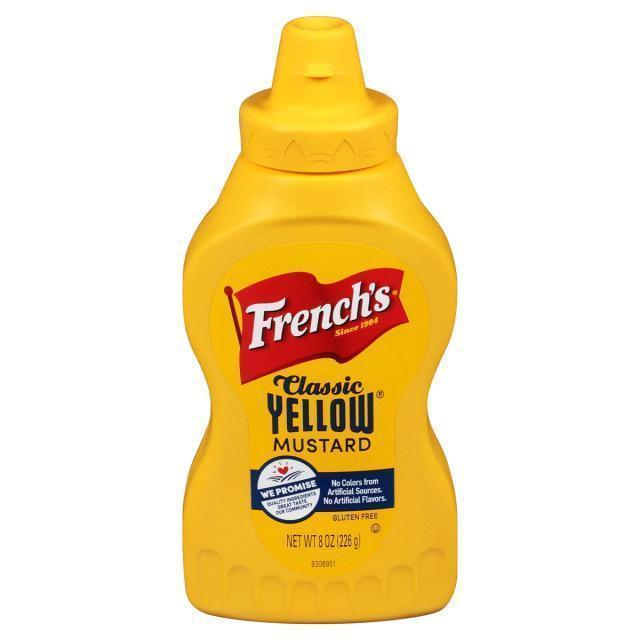Plastic: (180, 15, 458, 627)
